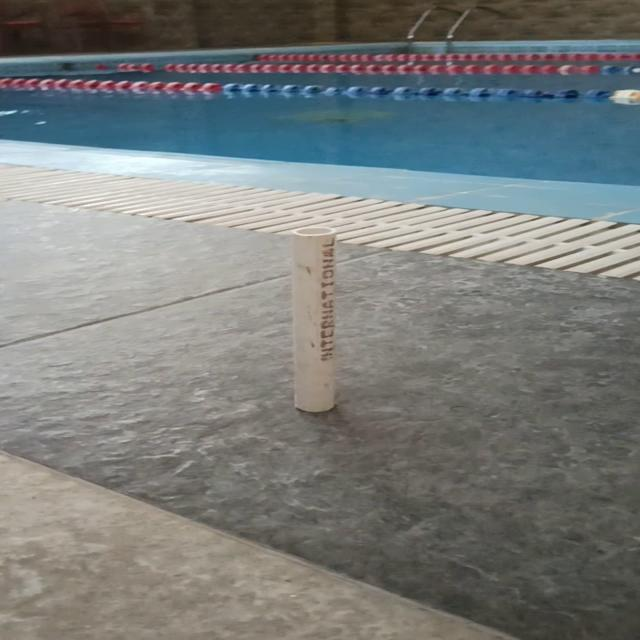Cube: (288, 225, 338, 412)
